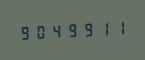four: (49, 21, 64, 40)
nine: (17, 22, 32, 42), (65, 20, 80, 39), (81, 19, 96, 38)
one: (113, 17, 128, 37), (97, 18, 112, 37)
zero: (33, 22, 48, 41)
